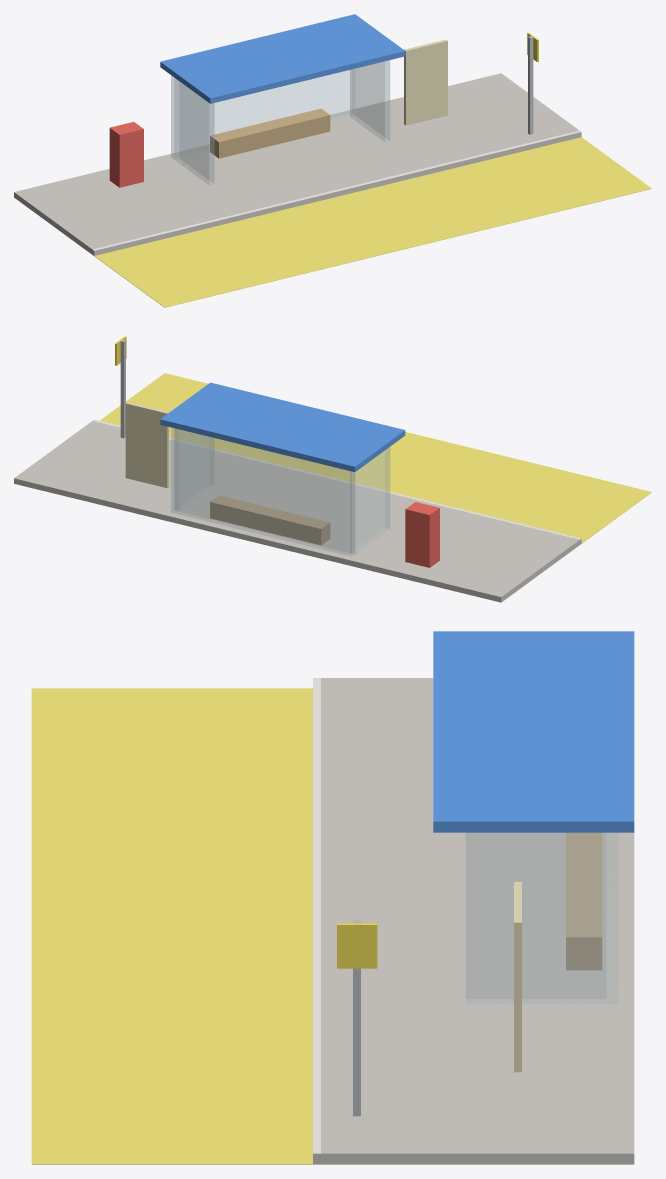
The model's file is bus_station.glb.
3 renders of one model, top to bottom at view 1: azimuth 30°, elevation 25°; view 2: azimuth 150°, elevation 25°; view 3: azimuth 270°, elevation 25°, orthographic. The views are drawn at different scales.
Visible parts, largest first — view 1: Platform, decor_Bay_Lines, Shelter_Roof, Shelter_Back, Timetable, Shelter_Side_W, Shelter_Bench, Shelter_Side_E, Ticket_Machine, decor_Bay_Kerb_Paint, Stop_Sign_Pole; view 2: Platform, decor_Bay_Lines, Shelter_Back, Shelter_Roof, Timetable, Shelter_Side_W, Shelter_Bench, Shelter_Side_E, Ticket_Machine, decor_Bay_Kerb_Paint, Stop_Sign_Pole; view 3: decor_Bay_Lines, Platform, Shelter_Roof, Shelter_Side_E, Shelter_Bench, decor_Bay_Kerb_Paint, Shelter_Back, decor_Stop_Sign, Timetable, Stop_Sign_Pole.
Part boxes in pixels (x1,y1,x2,y2): Platform: (14, 73, 581, 255); decor_Bay_Lines: (94, 137, 651, 307); Shelter_Roof: (160, 14, 405, 103); Shelter_Back: (171, 69, 354, 159); Timetable: (404, 39, 447, 125); Shelter_Side_W: (174, 78, 214, 184); Shelter_Bench: (210, 108, 330, 158); Shelter_Side_E: (350, 60, 389, 142); Ticket_Machine: (109, 122, 143, 187); decor_Bay_Kerb_Paint: (92, 130, 580, 250); Stop_Sign_Pole: (528, 36, 533, 134); Platform: (14, 421, 581, 602); decor_Bay_Lines: (100, 373, 651, 543); Shelter_Back: (171, 427, 354, 556); Shelter_Roof: (160, 382, 405, 472); Timetable: (125, 402, 169, 488); Shelter_Side_W: (350, 447, 389, 553); Shelter_Bench: (210, 495, 330, 545); Shelter_Side_E: (174, 429, 214, 510); Ticket_Machine: (405, 502, 439, 567); decor_Bay_Kerb_Paint: (93, 419, 581, 539); Stop_Sign_Pole: (120, 339, 125, 438); decor_Bay_Lines: (31, 688, 312, 1164); Platform: (313, 678, 634, 1164); Shelter_Roof: (433, 631, 634, 832); Shelter_Side_E: (466, 833, 605, 1003); Shelter_Bench: (566, 832, 602, 970); decor_Bay_Kerb_Paint: (313, 678, 320, 1153); Shelter_Back: (606, 833, 617, 1003); decor_Stop_Sign: (337, 923, 377, 968); Timetable: (514, 882, 521, 1072); Stop_Sign_Pole: (353, 920, 360, 1116).
Bounding box in the file's own units: 14 × 2.8 × 7.5.
